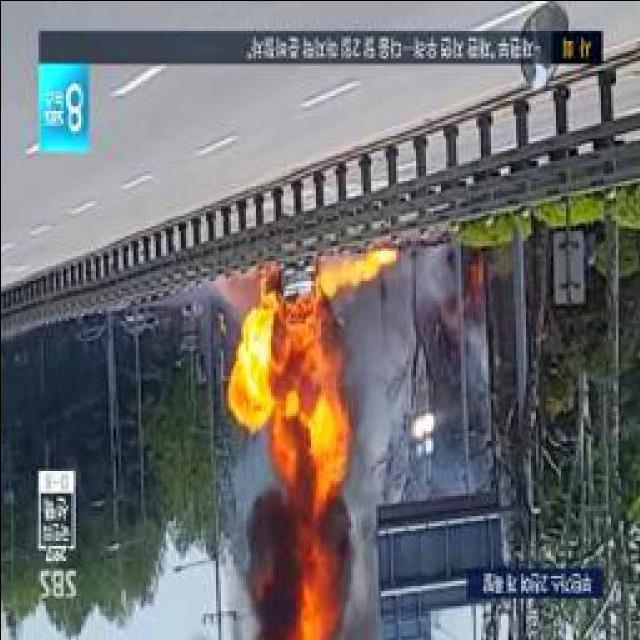Fire: (228, 308, 272, 424), (319, 246, 391, 288)
